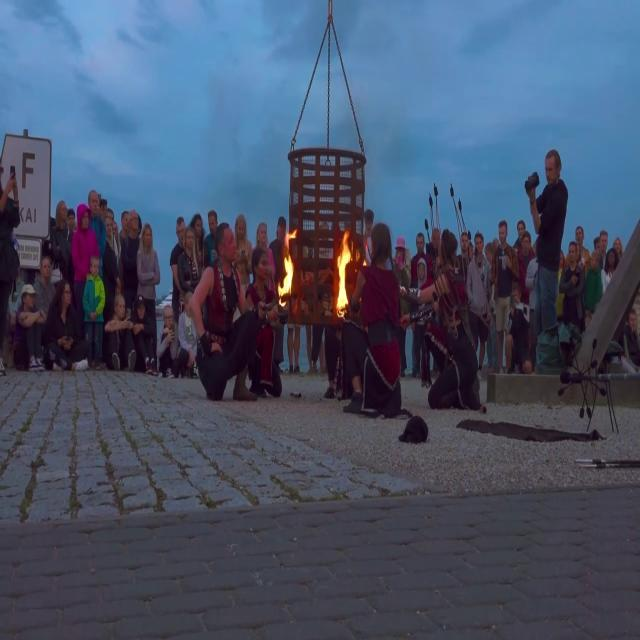Fire: (334, 223, 354, 327), (274, 227, 298, 302)
